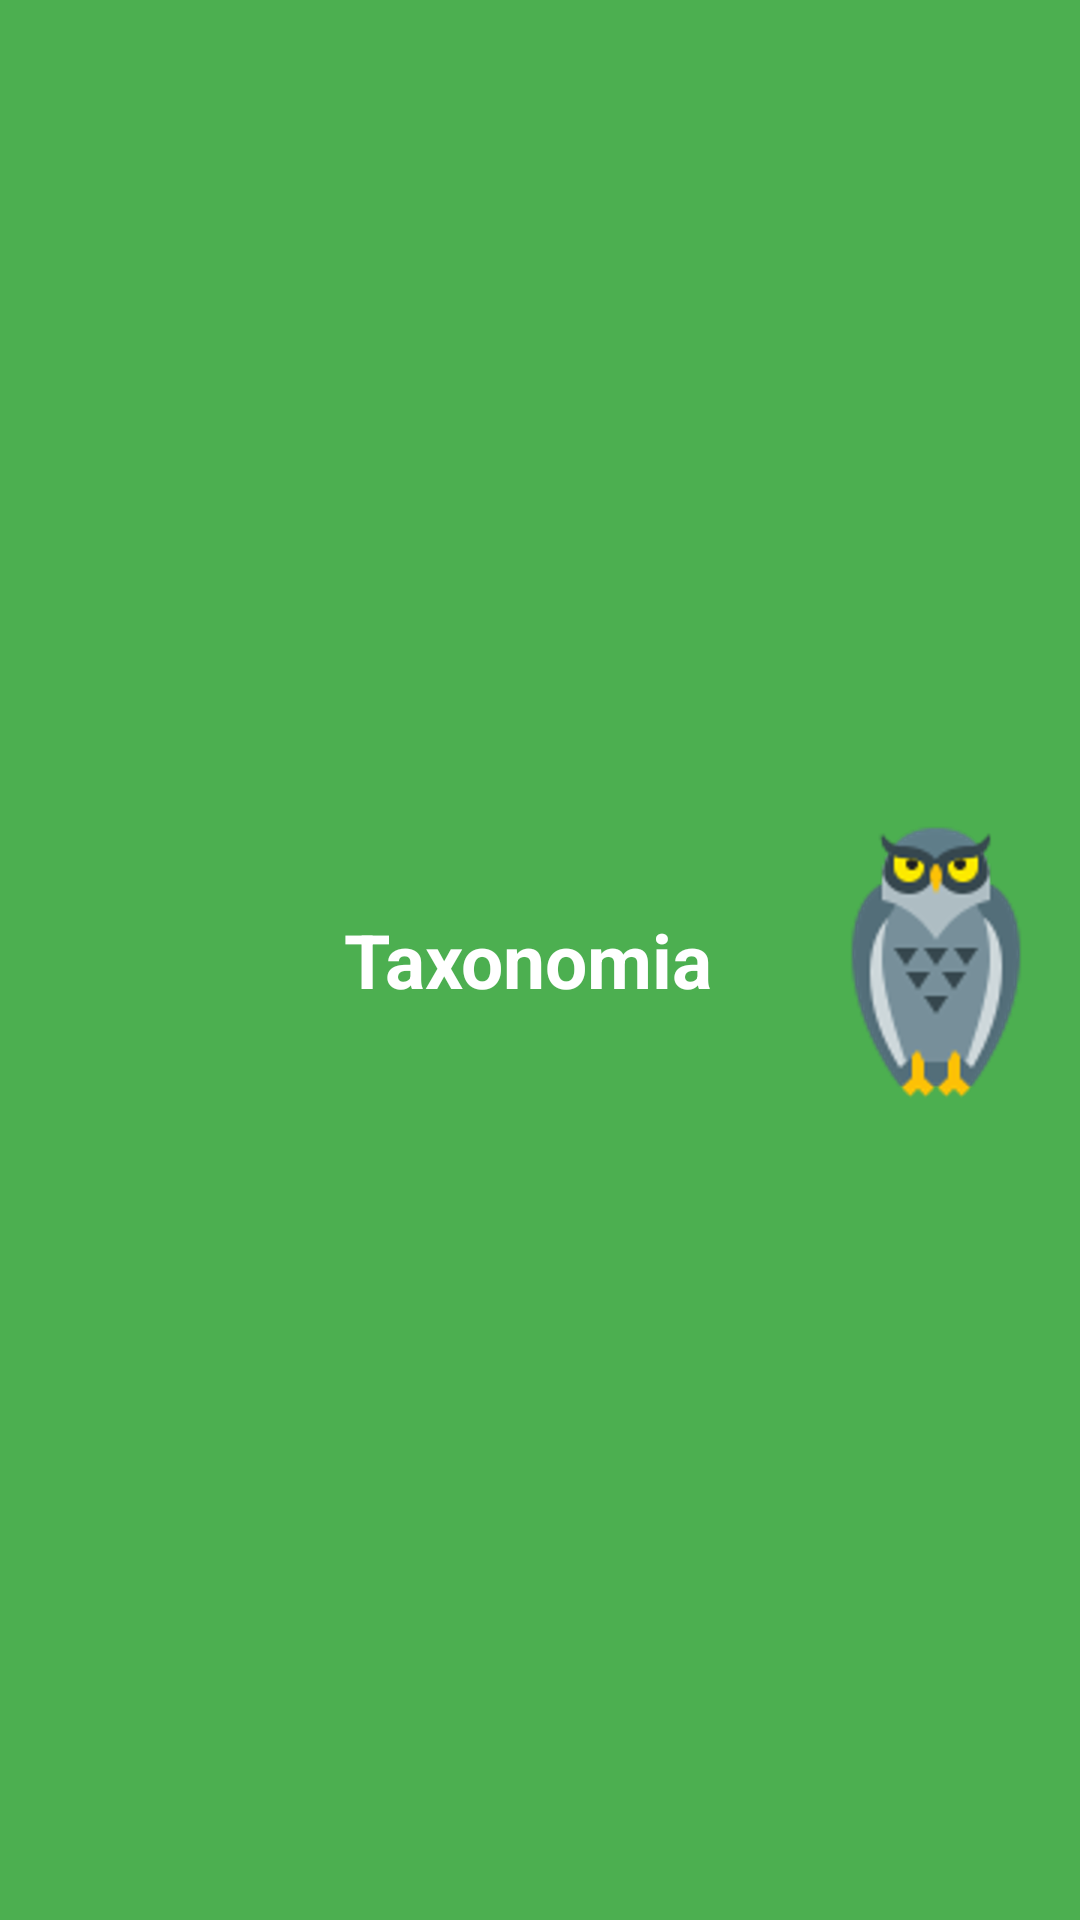

Locate icon controls on the screen. Image size 1080x1920, boxes as (x1, y1, x2, y2).
aves: (852, 828, 1020, 1097)
